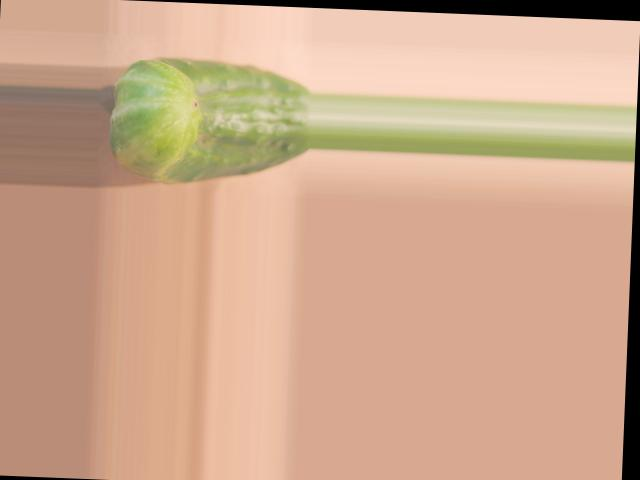cucumber: (108, 54, 313, 188)
